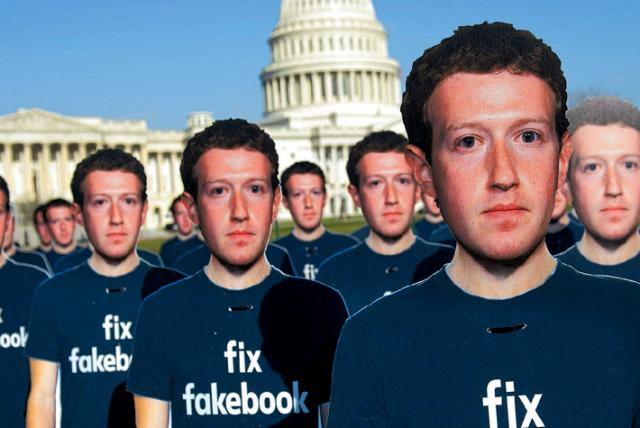person: (393, 48, 572, 316), (161, 133, 328, 312), (49, 158, 169, 306)
